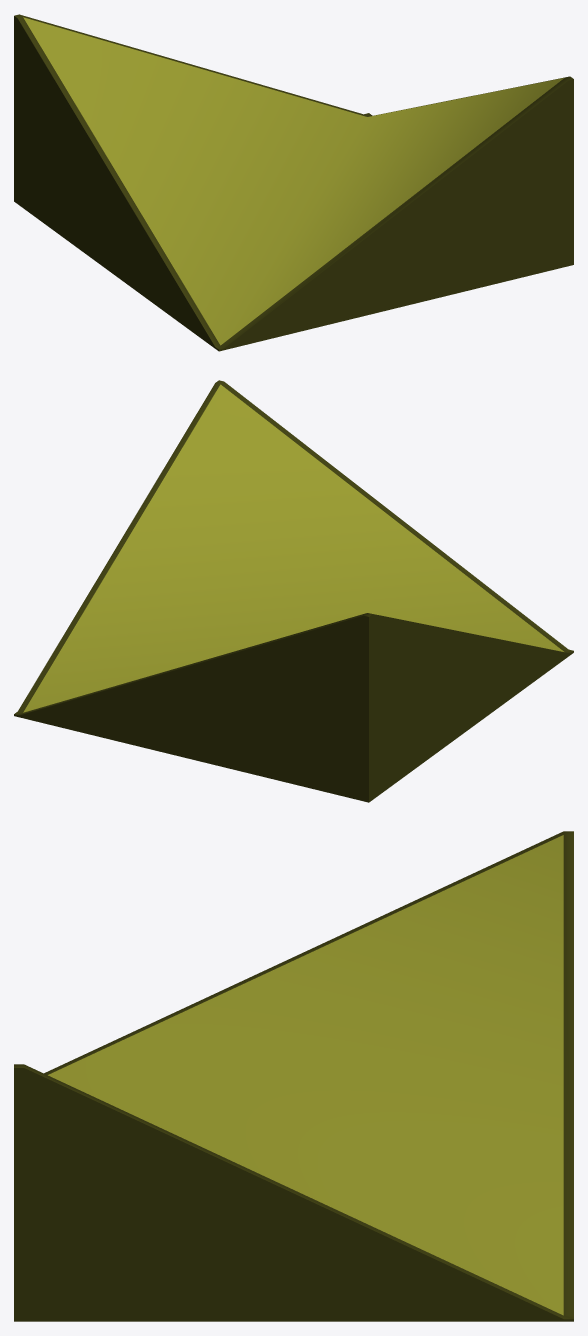
Rendered from Casilla 49.fbx.
3 views of the same model, one above another, from view 1: azimuth 30°, elevation 25°; view 2: azimuth 150°, elevation 25°; view 3: azimuth 270°, elevation 25° (orthographic). The views are drawn at different scales.
Visible parts, largest first — view 1: pCube7; view 2: pCube7; view 3: pCube7.
Boxes of the visible parts, x1,y1,x2,y2 form: pCube7: [14, 14, 573, 351]; pCube7: [14, 380, 573, 802]; pCube7: [14, 831, 573, 1321].
Size of the model in its own units: 200 by 100 by 200.
